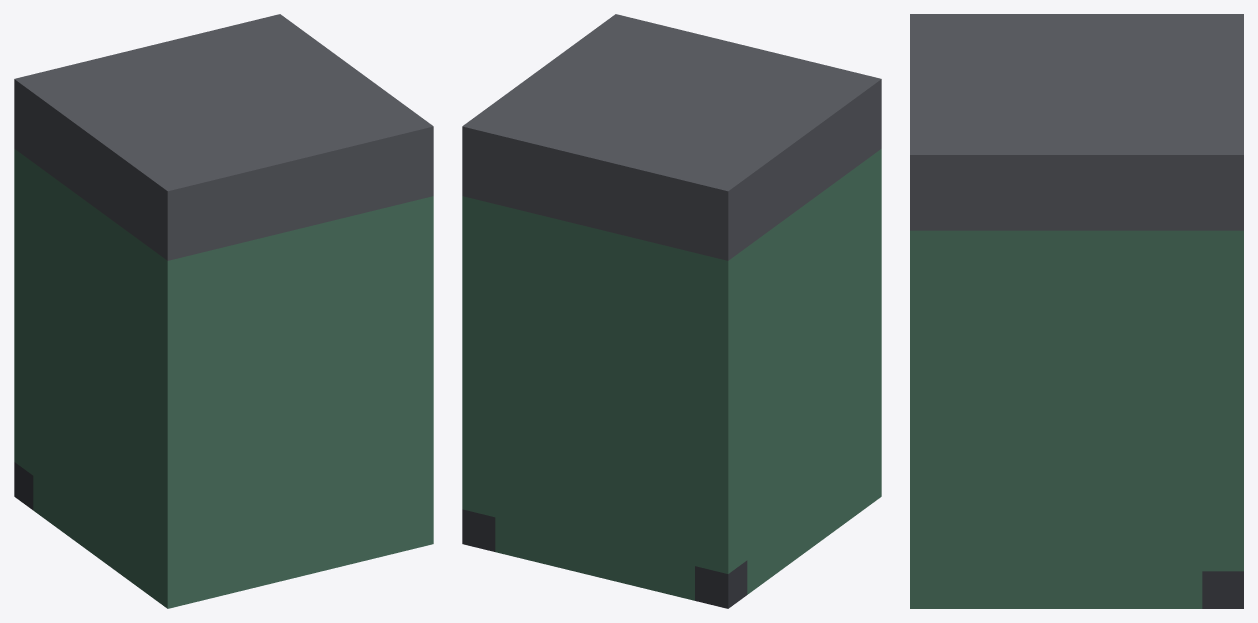
File: poubelle.glb
3 renders of one model, left to right at view 1: azimuth 30°, elevation 25°; view 2: azimuth 150°, elevation 25°; view 3: azimuth 270°, elevation 25°, orthographic. The views are drawn at different scales.
Visible parts, largest first — view 1: main; view 2: main; view 3: main.
Boxes of the visible parts, x1,y1,x2,y2 form: main: (14, 14, 433, 608); main: (462, 14, 881, 608); main: (910, 14, 1243, 608).
Size of the model in its own units: 0.5 by 0.75 by 0.5.
